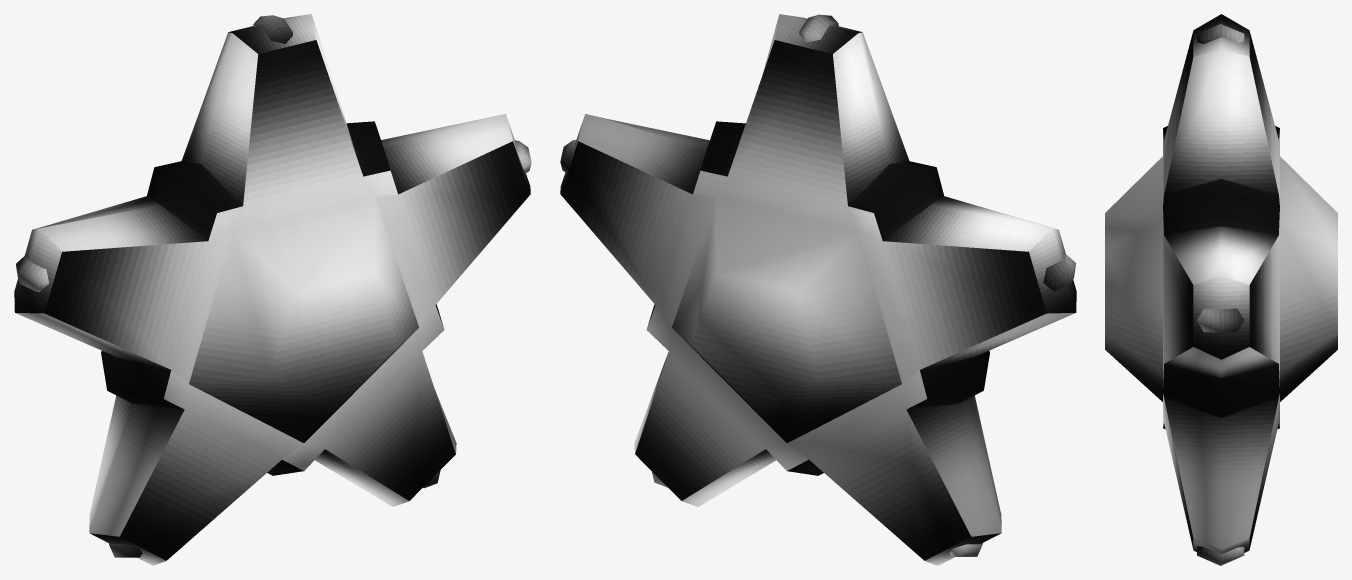
Rendered from datan_common_P_star_c5537379.obj.
3 views of the same model, side by side, from view 1: azimuth 30°, elevation 25°; view 2: azimuth 150°, elevation 25°; view 3: azimuth 270°, elevation 25° (orthographic). The views are drawn at different scales.
Visible parts, largest first — view 1: datan_common_P_star_c5537379; view 2: datan_common_P_star_c5537379; view 3: datan_common_P_star_c5537379.
Part boxes in pixels (bbox=[...]): datan_common_P_star_c5537379: bbox=[14, 14, 531, 565]; datan_common_P_star_c5537379: bbox=[560, 14, 1076, 565]; datan_common_P_star_c5537379: bbox=[1105, 14, 1337, 565].
Bounding box in the file's own units: 3.24 × 3.14 × 1.36.
1 material, 1 textured.
